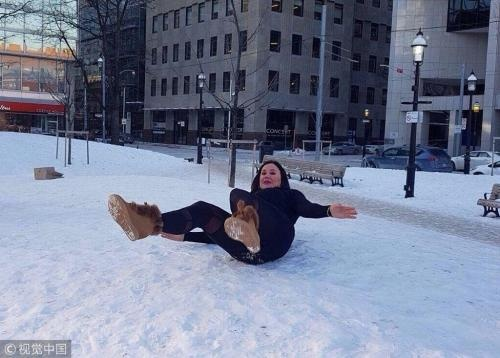falling: (100, 147, 354, 275)
